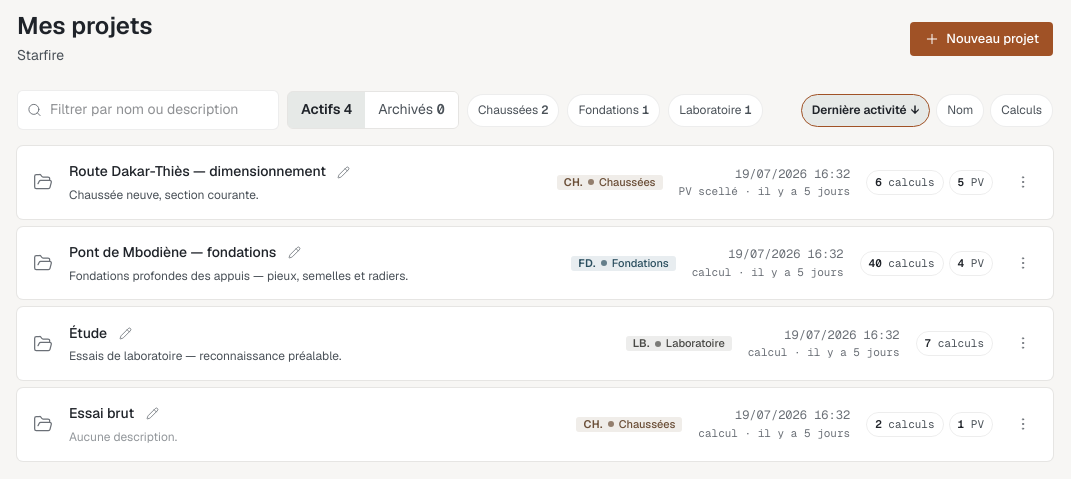
Test: Liste des projets — barre d’outils › #5b GIVEN le tri par défaut — WHEN on clique « Nom » — THEN la liste est retriée par nom (A→Z par défaut)
Click the button "Nom": (960, 110) [936,94,984,127]
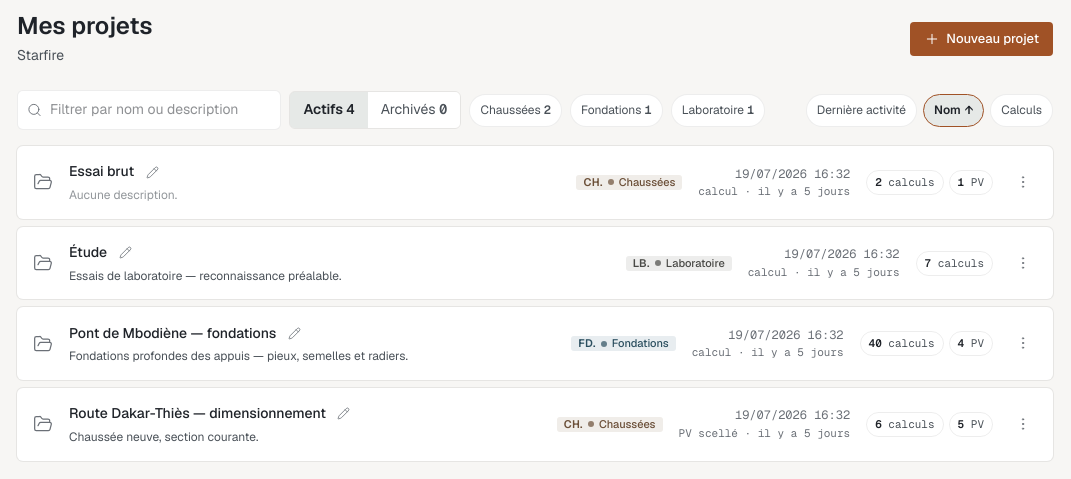
Check: the list item with aria-label "Projet Essai brut" shows "Essai brut", box [69,162,134,180]
Check: the button "Nom↑" is shown, box [923,94,984,127]
